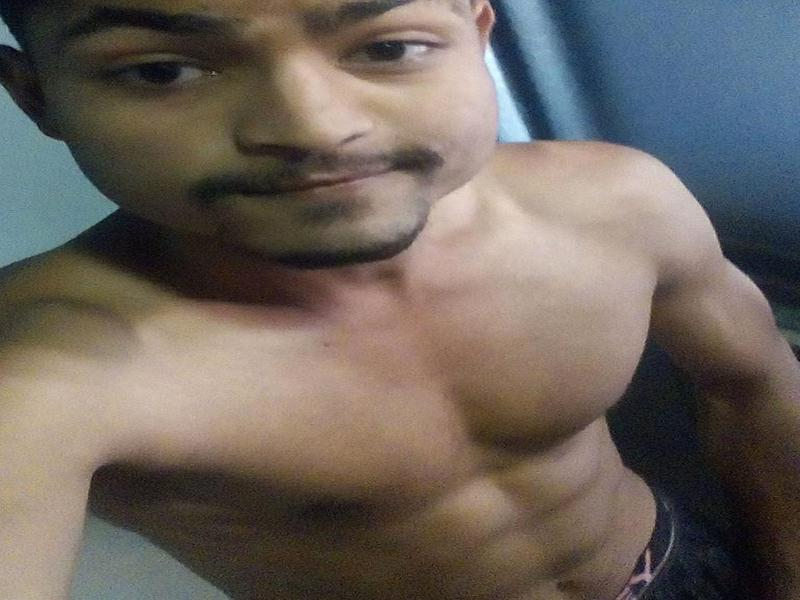without_mask: (12, 1, 502, 272)
